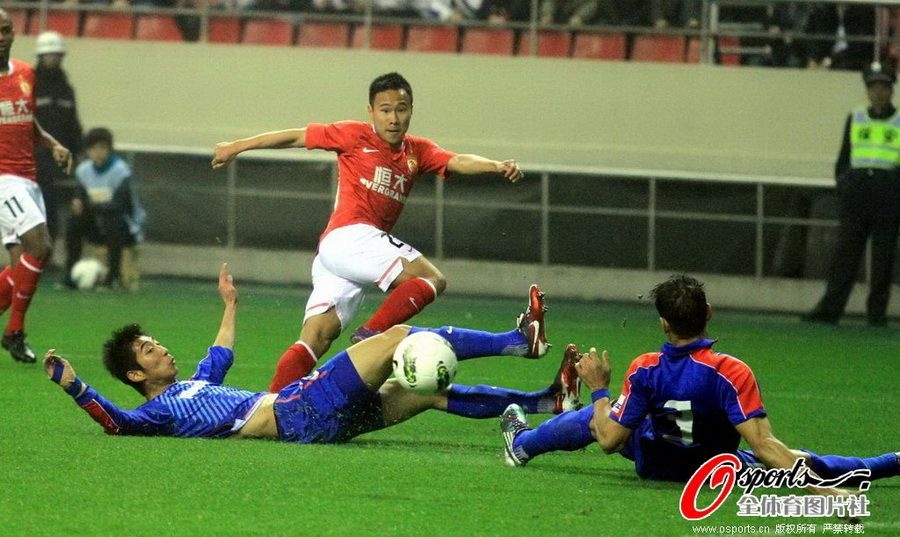falling: (23, 266, 607, 448)
